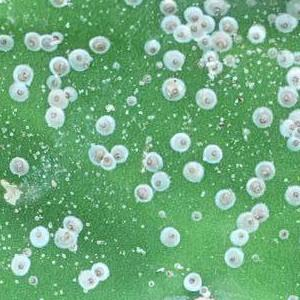Femea: (186, 10, 208, 35), (183, 164, 200, 182), (170, 133, 187, 150), (143, 155, 161, 170), (212, 35, 230, 49), (9, 85, 25, 100), (166, 52, 182, 67), (161, 230, 177, 245), (165, 81, 179, 97), (196, 91, 212, 105), (70, 51, 85, 65), (144, 41, 159, 54), (198, 36, 211, 51), (14, 67, 27, 81), (204, 147, 217, 161), (152, 175, 166, 188), (48, 91, 61, 105), (23, 34, 36, 47), (0, 34, 12, 48), (90, 40, 106, 50), (47, 110, 59, 123), (165, 19, 177, 31), (176, 27, 187, 40)
